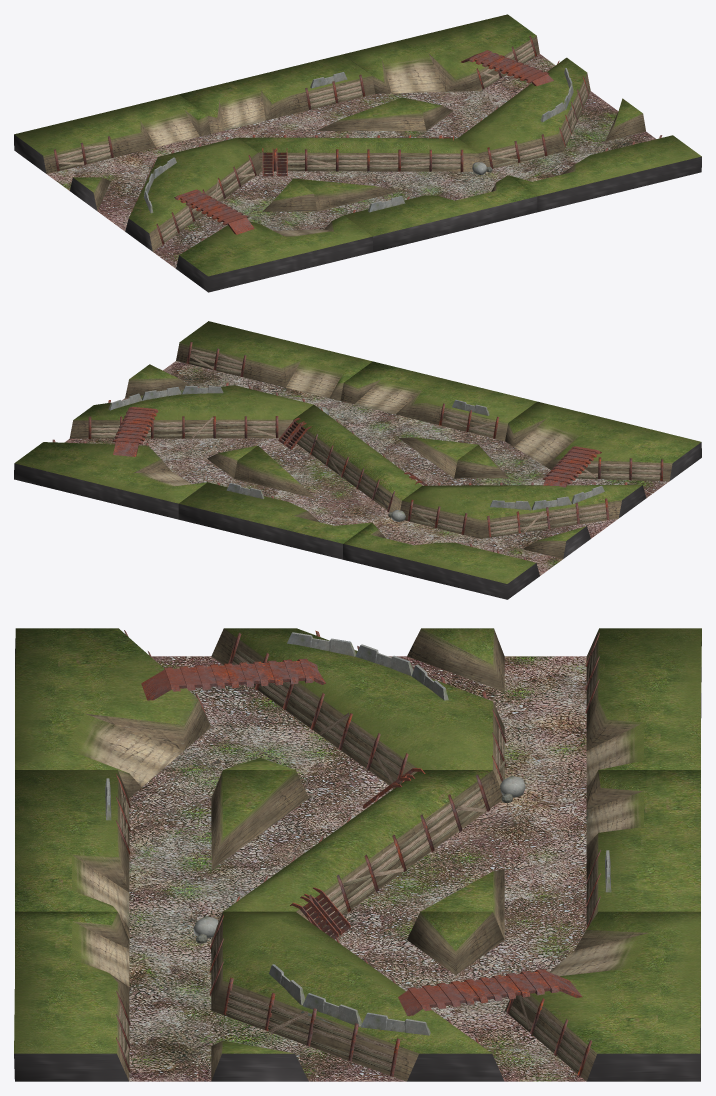
File: grass_trenches.glb
The picture shows the model from 3 angles, top to bottom: view 1: azimuth 30°, elevation 25°; view 2: azimuth 150°, elevation 25°; view 3: azimuth 270°, elevation 25°; orthographic projection. The views are drawn at different scales.
Parts seen in each view (by area): view 1: module_1_18, module_2_21, module_1.001_19, Plane_23, bridge_20, bridge.001_22; view 2: module_1_18, module_1.001_19, module_2_21, Plane_23, bridge.001_22, bridge_20; view 3: Plane_23, module_1.001_19, module_1_18, module_2_21, bridge_20, bridge.001_22, barrier.001_13, barrier.002_14, barrier.004_10, barrier.005_11, ladder.002_6.
Boxes of the visible parts, left/top/right/bottom form: module_1_18: left=14, top=94, right=372, bottom=292; module_2_21: left=179, top=54, right=537, bottom=252; module_1.001_19: left=343, top=14, right=701, bottom=212; Plane_23: left=47, top=54, right=656, bottom=268; bridge_20: left=174, top=189, right=254, bottom=234; bridge.001_22: left=461, top=50, right=553, bottom=85; module_1_18: left=343, top=401, right=701, bottom=599; module_1.001_19: left=14, top=321, right=372, bottom=519; module_2_21: left=178, top=361, right=536, bottom=559; Plane_23: left=64, top=361, right=668, bottom=575; bridge.001_22: left=112, top=406, right=158, bottom=456; bridge_20: left=542, top=446, right=601, bottom=487; Plane_23: left=129, top=656, right=586, bottom=1081; module_1.001_19: left=14, top=911, right=700, bottom=1081; module_1_18: left=15, top=628, right=701, bottom=797; module_2_21: left=15, top=770, right=700, bottom=939; bridge_20: left=141, top=658, right=325, bottom=700; bridge.001_22: left=398, top=969, right=582, bottom=1015; barrier.001_13: left=361, top=1012, right=430, bottom=1035; barrier.002_14: left=301, top=993, right=362, bottom=1026; barrier.004_10: left=287, top=632, right=356, bottom=656; barrier.005_11: left=355, top=644, right=413, bottom=675; ladder.002_6: left=303, top=887, right=350, bottom=935.
Bounding box in the file's own units: 43.92 × 2.1 × 30.03.
Materials: 2 (2 with a texture image).
